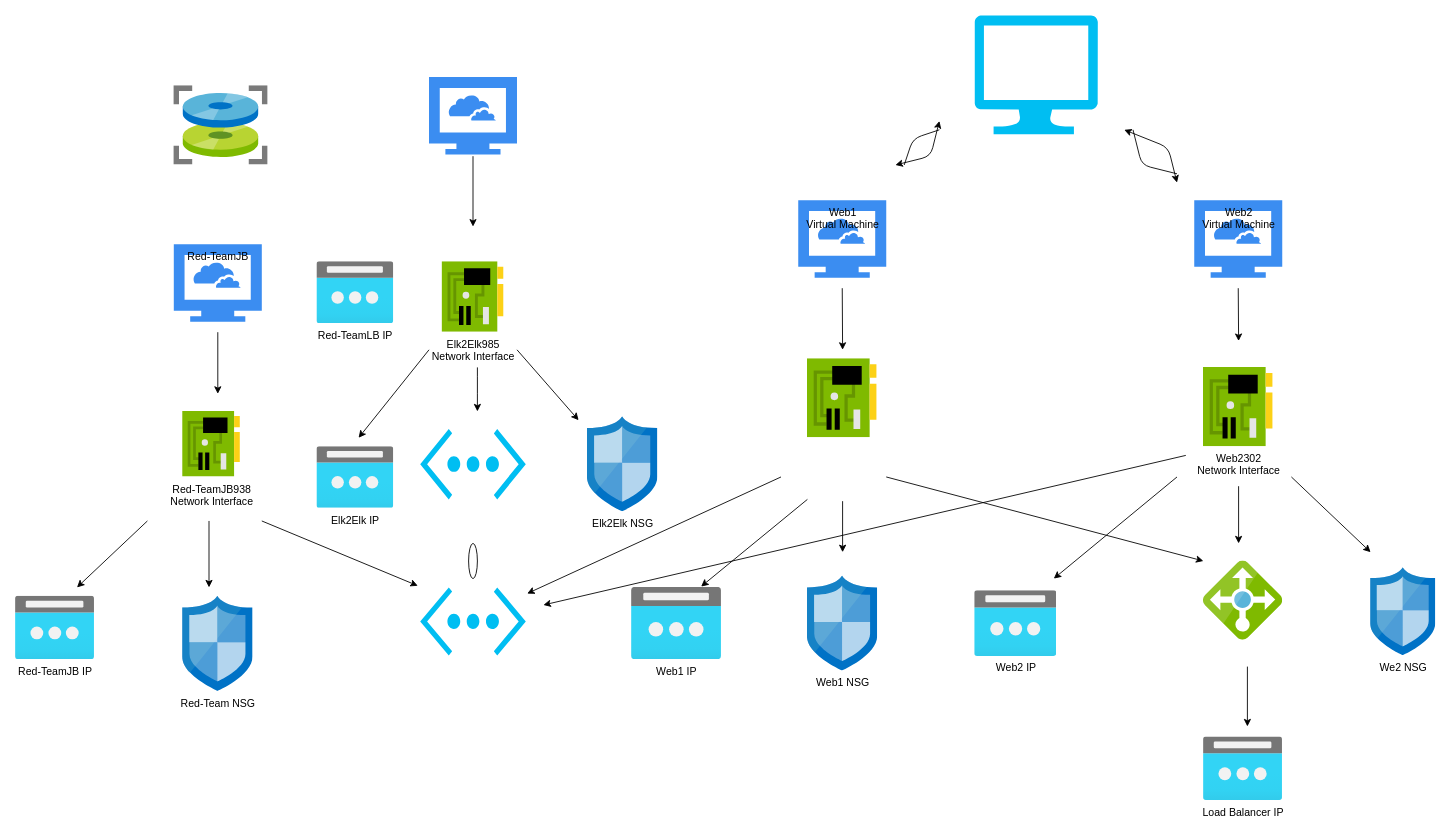
The diagram is 1450 pixels wide and 833 high, and some of its shapes have lost their labels. Each missing label, with the centre of its shape:
Elk Virtual Network: (472,464)
Elk-Vm_OSDisk: (220,125)
Elk2Elk Virtual Machine: (473,115)
Red-Team Availability Set: (1035,74)
Red-Team1 Virtual Network: (472,621)
Red-TeamLB: (1242,600)
Web1278 Network Interface: (842,397)
